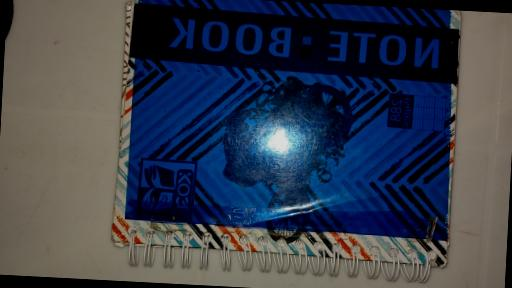notebook: (108, 0, 460, 286)
